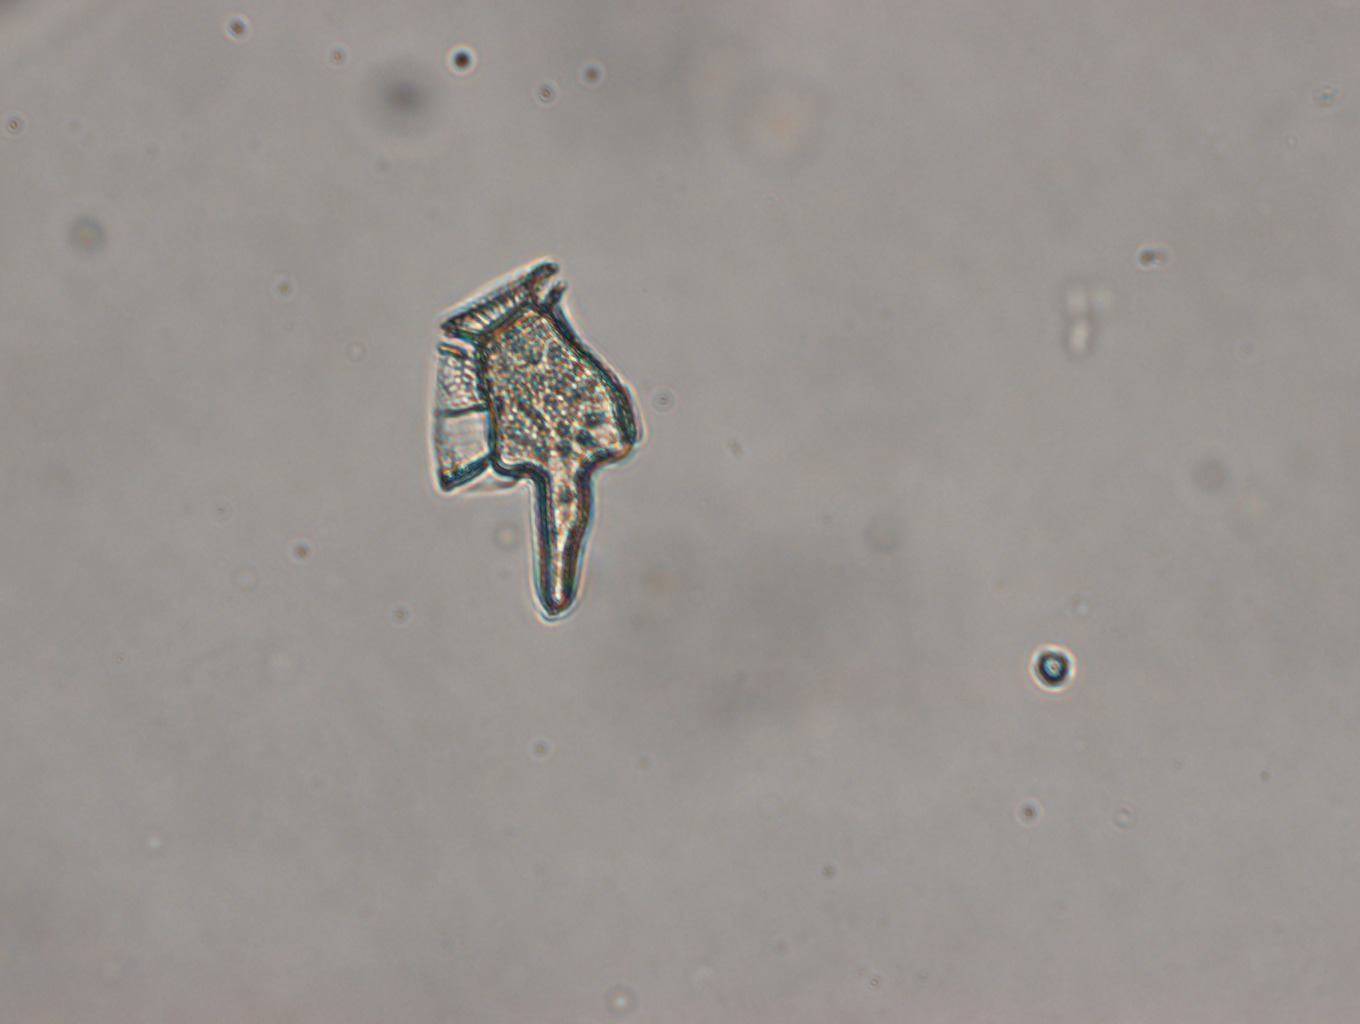dinophysis caudata: (427, 253, 643, 626)
